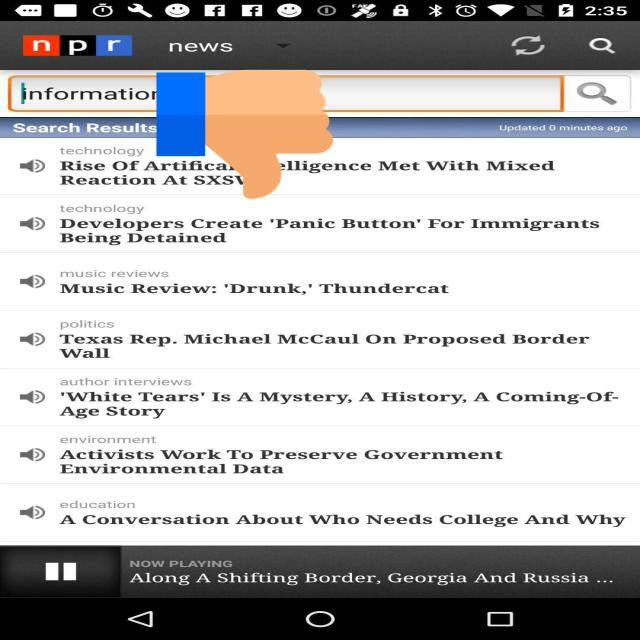obstruction: (156, 67, 333, 202)
